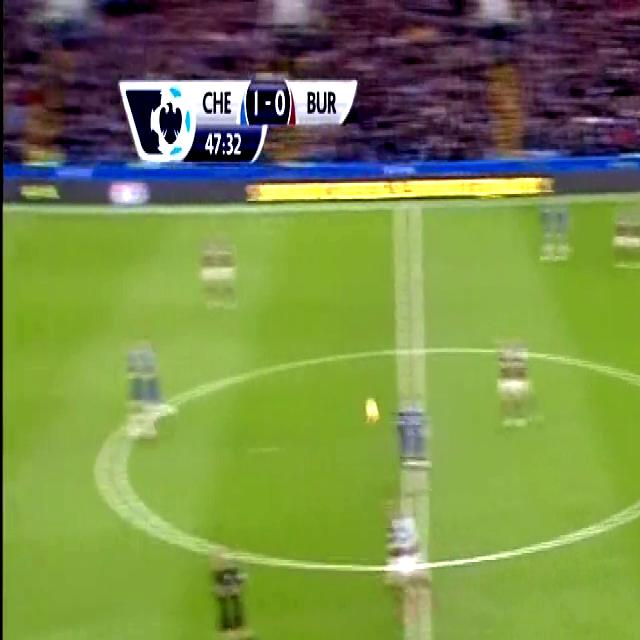ball: (361, 391, 384, 431)
soccer-player: (112, 316, 182, 465), (384, 381, 437, 543), (197, 526, 271, 640), (489, 316, 538, 446), (191, 223, 247, 327), (384, 490, 432, 604), (534, 175, 575, 290), (601, 188, 640, 297)
